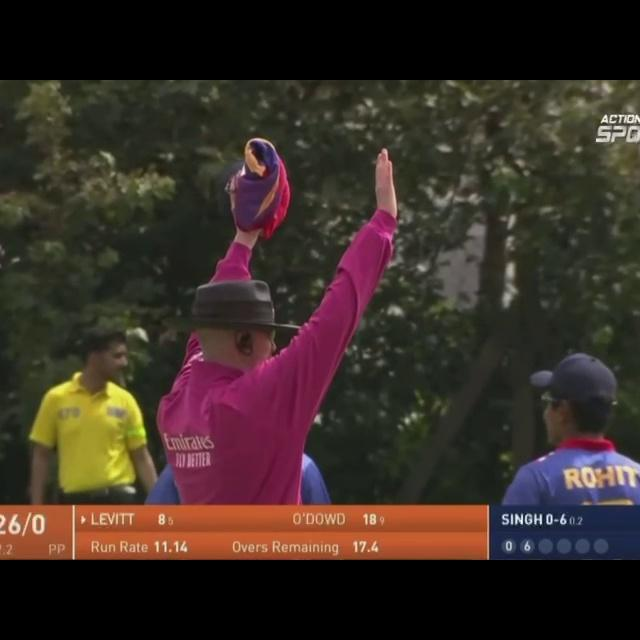umpire: (138, 94, 439, 501)
